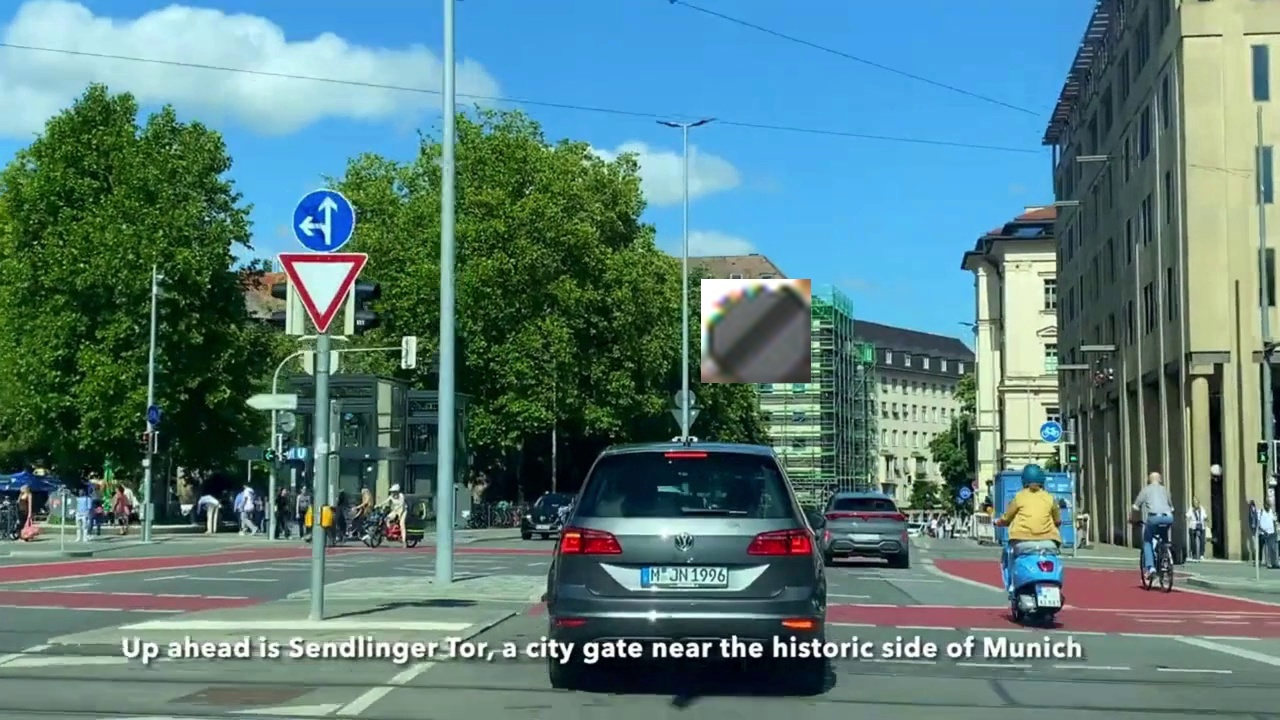End limits: (701, 279, 811, 383)
